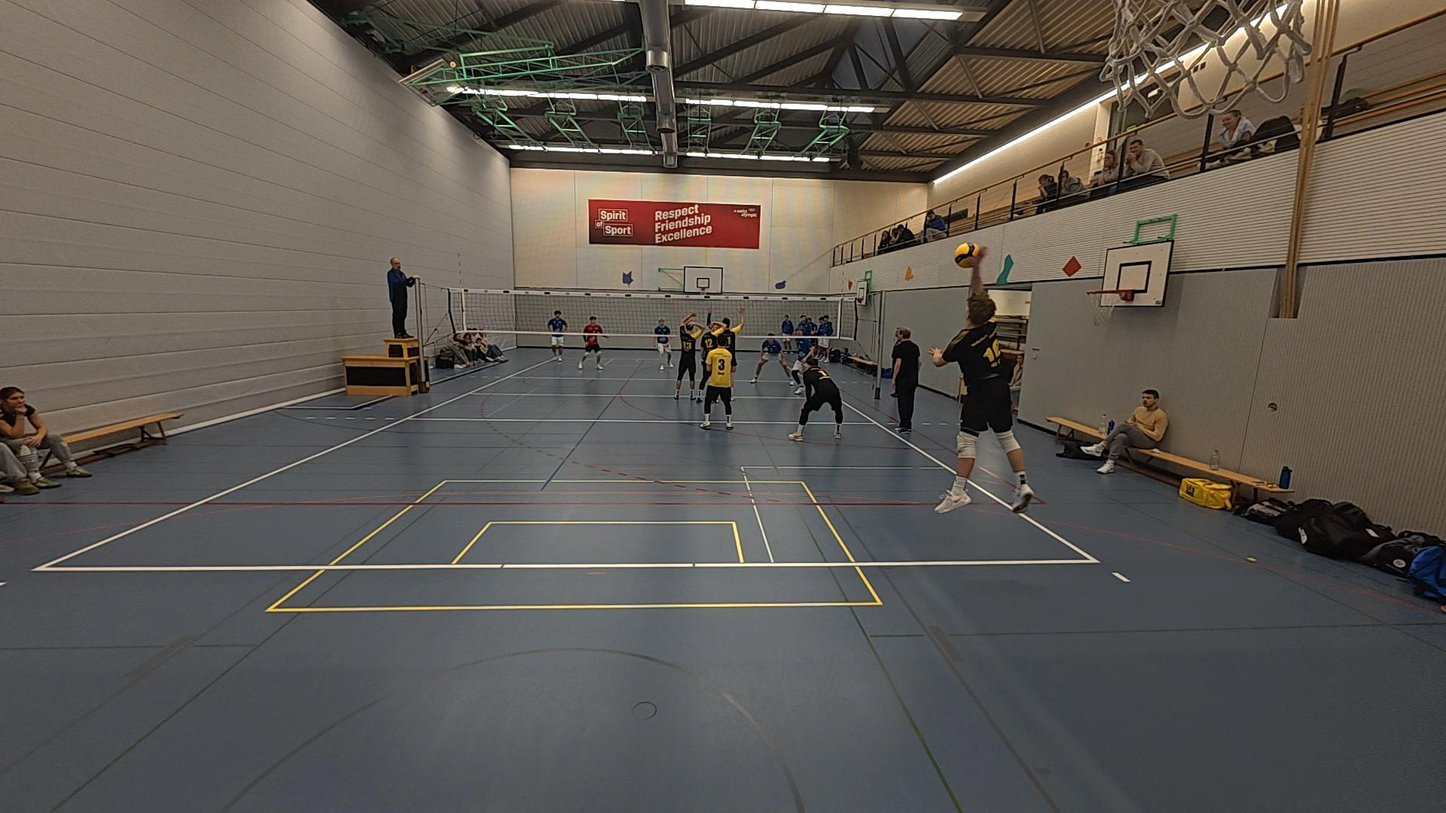Player: (788, 349, 843, 440), (706, 307, 746, 404), (698, 336, 735, 431), (673, 312, 704, 400), (695, 320, 726, 404), (752, 325, 786, 385), (787, 328, 816, 397), (578, 315, 610, 370), (651, 314, 675, 371), (545, 309, 569, 361)
Serve: (925, 246, 1039, 516)
ball: (953, 242, 980, 263)
